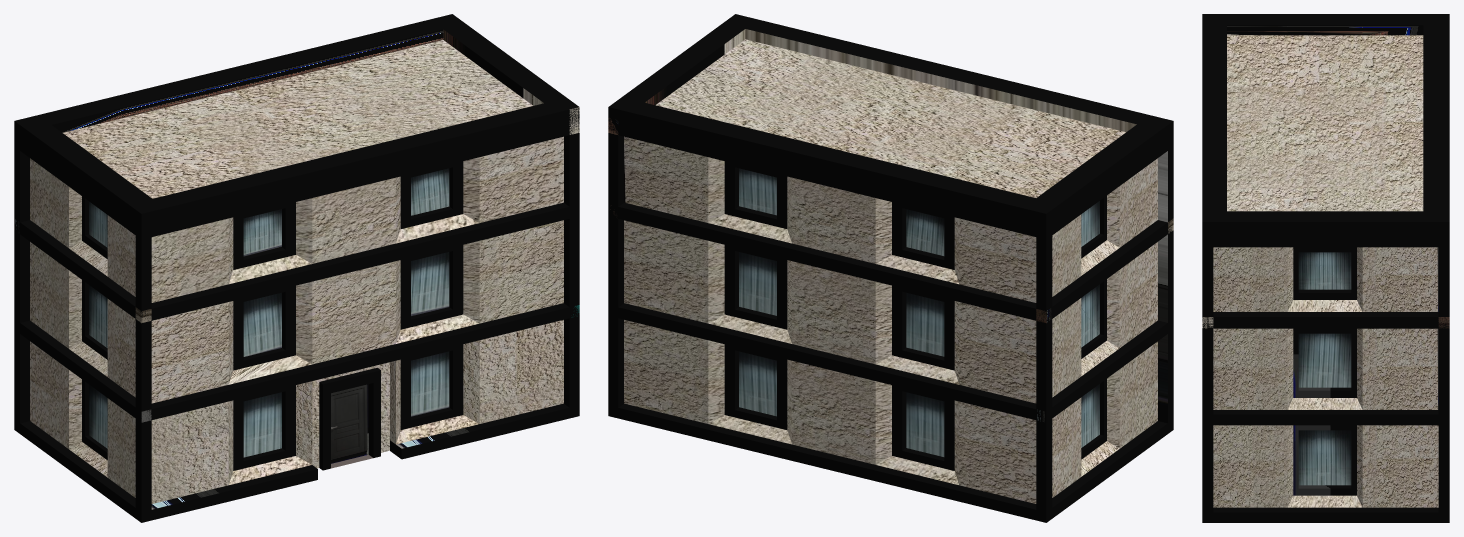
File: aPARTMENT3.glb
3 renders of one model, left to right at view 1: azimuth 30°, elevation 25°; view 2: azimuth 150°, elevation 25°; view 3: azimuth 270°, elevation 25°, orthographic. The views are drawn at different scales.
Parts seen in each view (by area): view 1: Cube; view 2: Cube; view 3: Cube.
Boxes of the visible parts, bbox=[...] form: Cube: bbox=[14, 14, 579, 522]; Cube: bbox=[608, 14, 1173, 522]; Cube: bbox=[1202, 14, 1449, 522].
Size of the model in its own units: 21.89 by 14.75 by 11.
Materials: 1 (1 with a texture image).
